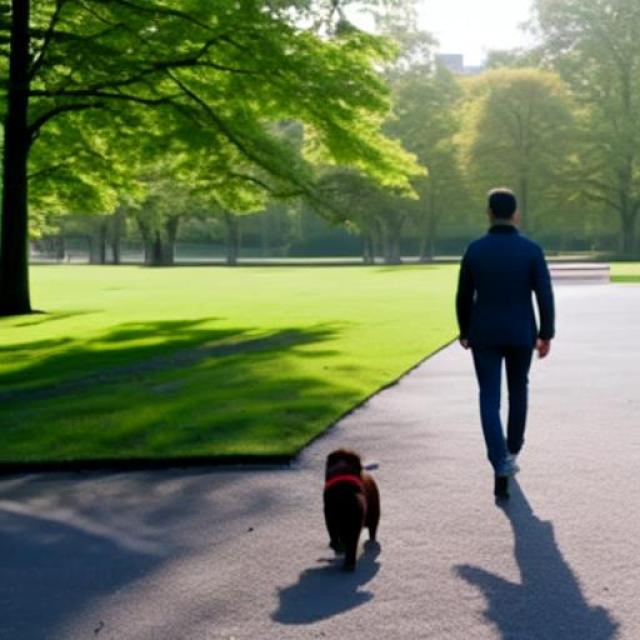Unleashed_Dog: (322, 326, 517, 576)
